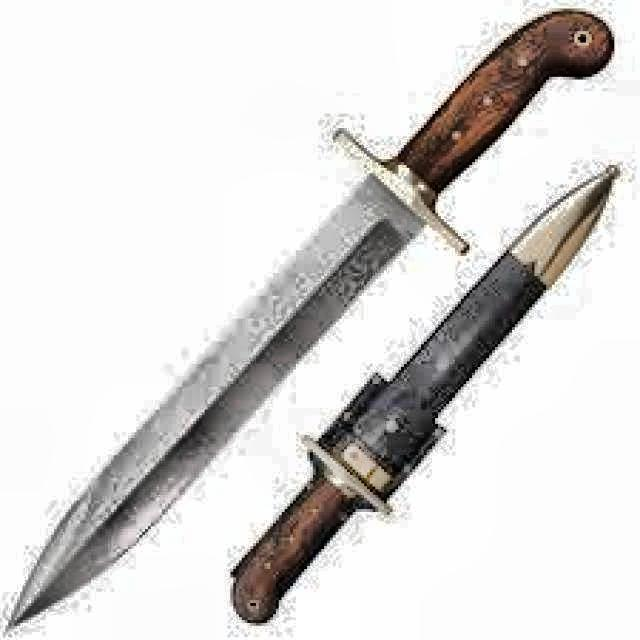knife: (7, 7, 617, 628)
